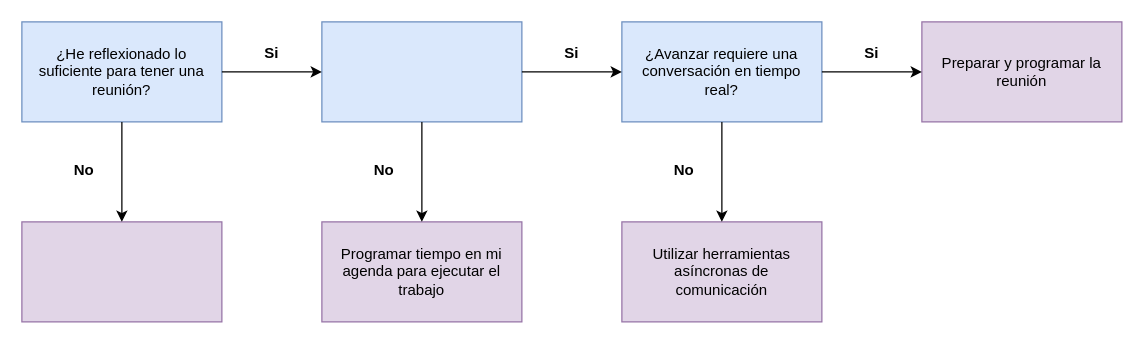
This 1144x344 diagram has some shape labels left out. Each missing label, with the centre of its shape:
Debo dedicar tiempo a clarificar y pensar sobre el trabajo: point 121,271
¿Necesito información externa o ayuda de un tercero?: point 421,71
